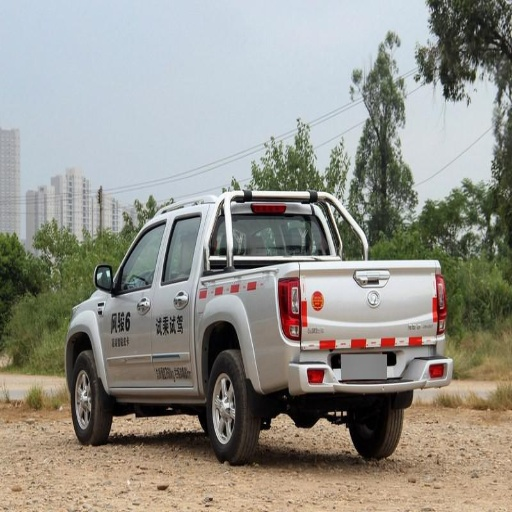back_bumper: (287, 348, 447, 394)
back_left_door: (153, 221, 194, 382)
trunk: (179, 259, 436, 389)
